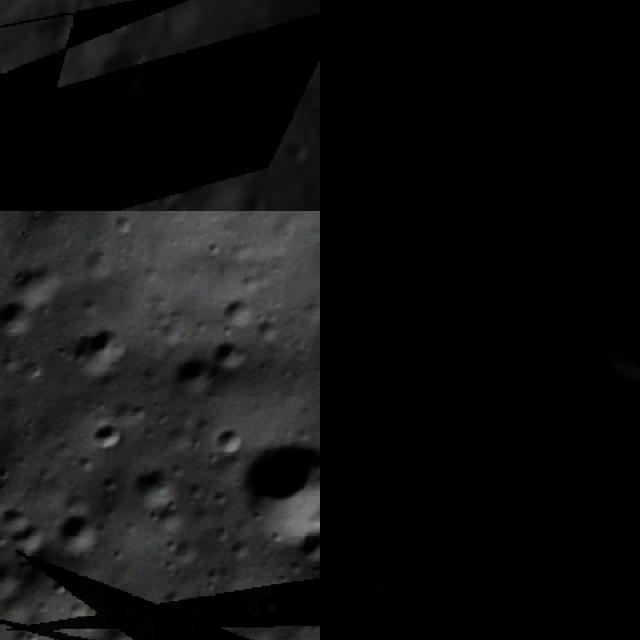crater: (219, 418, 320, 575), (379, 228, 493, 338), (566, 269, 640, 417), (485, 211, 599, 299), (335, 211, 442, 293), (544, 211, 640, 292), (349, 308, 425, 382), (320, 379, 386, 458), (127, 457, 202, 522), (89, 36, 152, 108), (554, 259, 621, 325), (351, 372, 416, 438), (49, 500, 114, 562), (374, 416, 436, 479), (70, 319, 131, 383), (363, 552, 424, 614), (125, 68, 182, 131), (57, 129, 111, 195), (333, 430, 390, 489), (497, 372, 552, 427), (449, 440, 503, 494), (106, 151, 158, 202), (430, 11, 484, 58), (548, 404, 598, 454), (547, 534, 596, 584), (88, 405, 136, 456), (425, 211, 511, 239), (476, 468, 524, 514), (567, 183, 640, 211), (449, 369, 494, 412), (206, 334, 252, 376), (245, 583, 290, 624), (584, 563, 626, 606), (0, 296, 39, 342), (320, 472, 358, 516), (430, 468, 470, 508), (468, 301, 506, 340), (209, 420, 245, 459), (363, 604, 402, 640), (515, 75, 548, 114), (457, 177, 494, 211), (345, 609, 385, 640), (44, 572, 76, 604), (612, 0, 640, 34), (546, 65, 571, 102), (301, 573, 320, 621), (485, 132, 512, 162)
